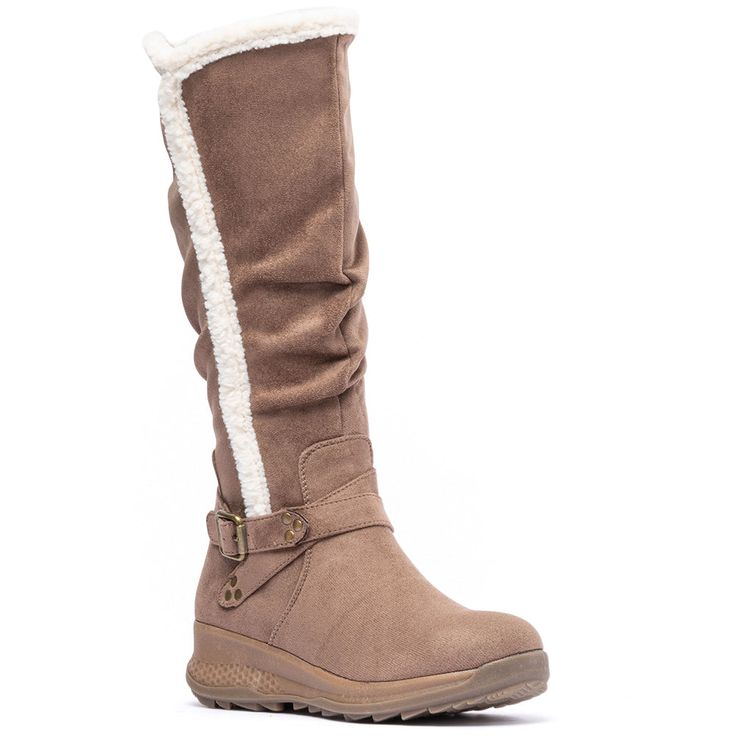gamuza: (160, 33, 544, 683)
